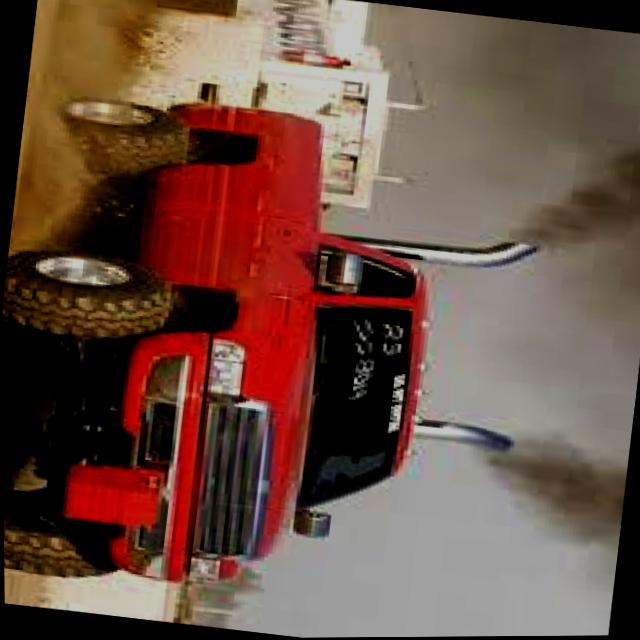Smoke: (465, 416, 631, 546), (508, 132, 640, 291)
